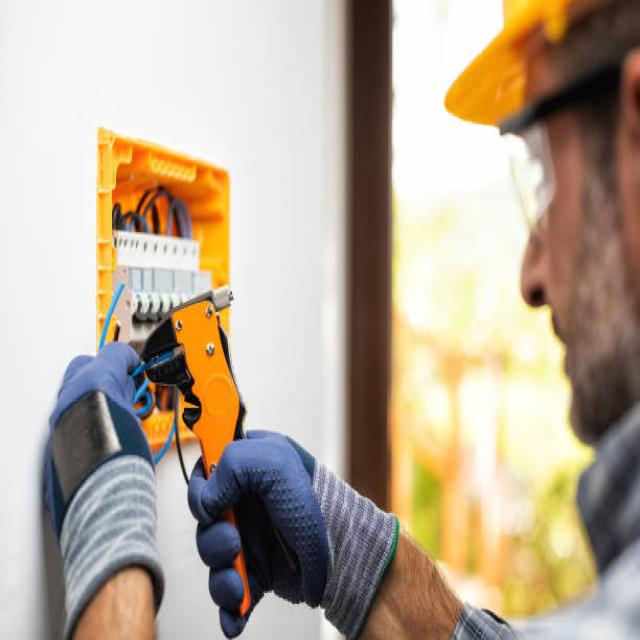gloves: (187, 426, 398, 640), (41, 337, 165, 637)
